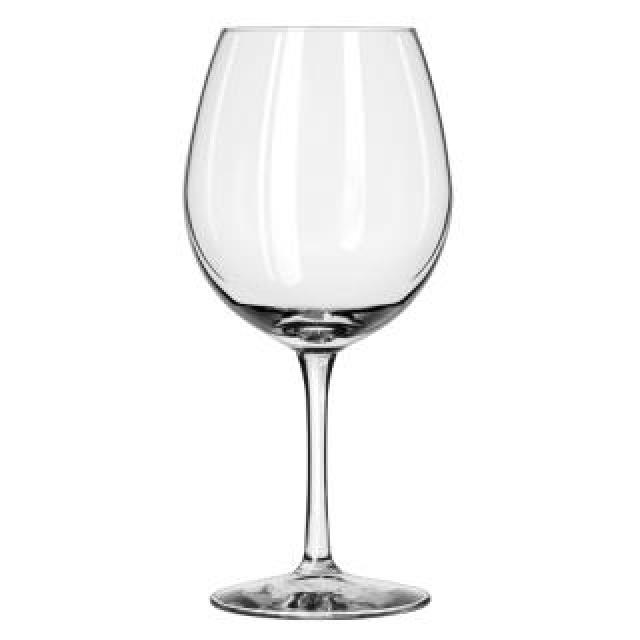plastic: (186, 26, 451, 613)
